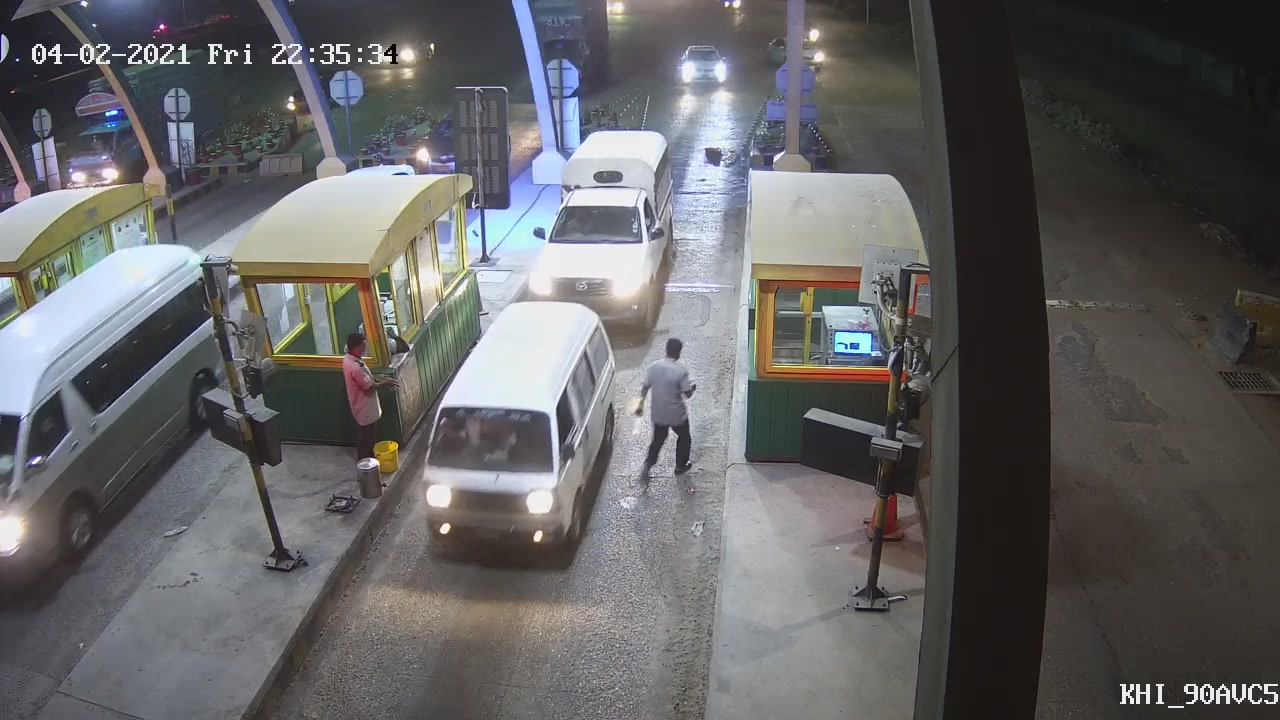F2: (416, 295, 619, 546)
